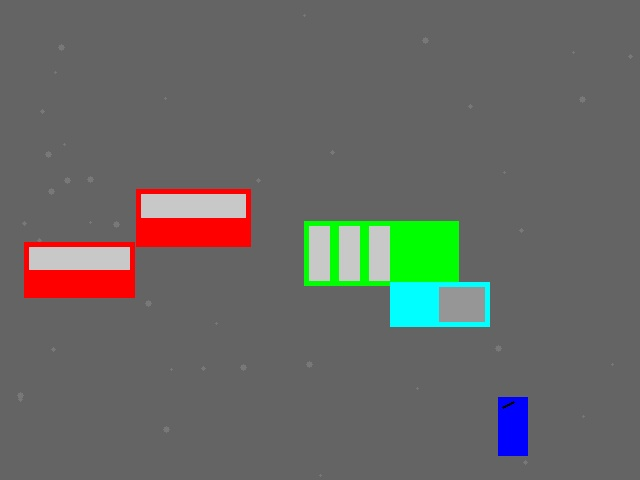bus: (304, 221, 458, 285)
car: (136, 189, 250, 246), (24, 242, 134, 297)
motorcycle: (498, 397, 527, 455)
truck: (390, 282, 489, 326)
